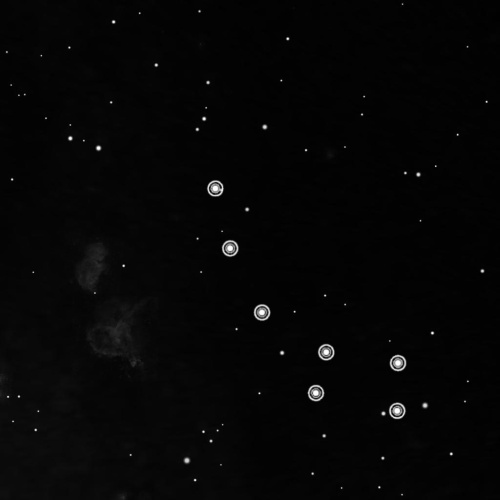ursa_minor: (202, 176, 411, 425)
